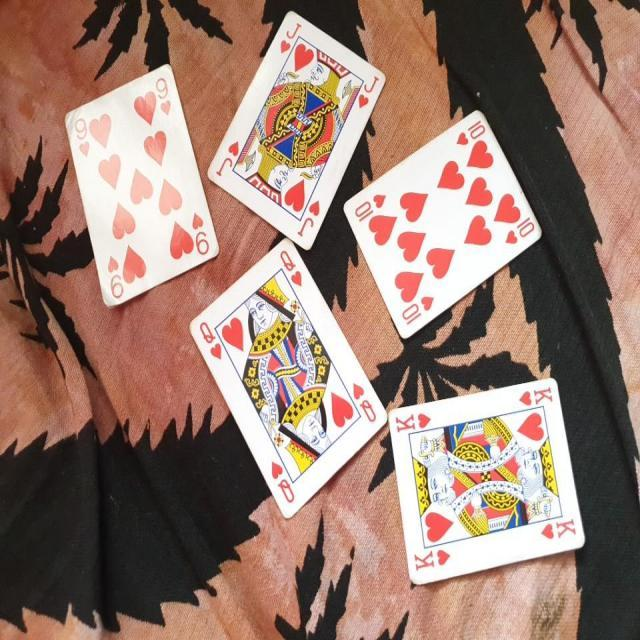10 of hearts: (344, 104, 548, 343)
9 of hearts: (70, 54, 224, 316)
jack of hearts: (204, 5, 386, 246)
king of hearts: (388, 368, 591, 583)
queen of hearts: (190, 232, 392, 532)
